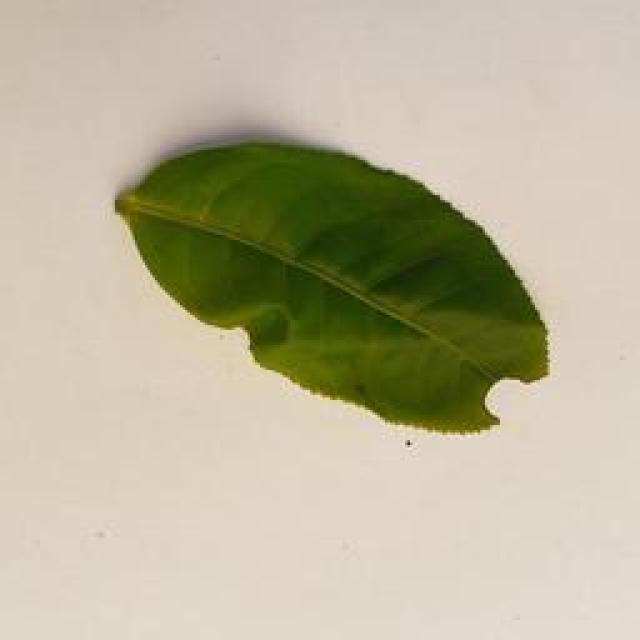Healthy: (95, 140, 574, 432)
